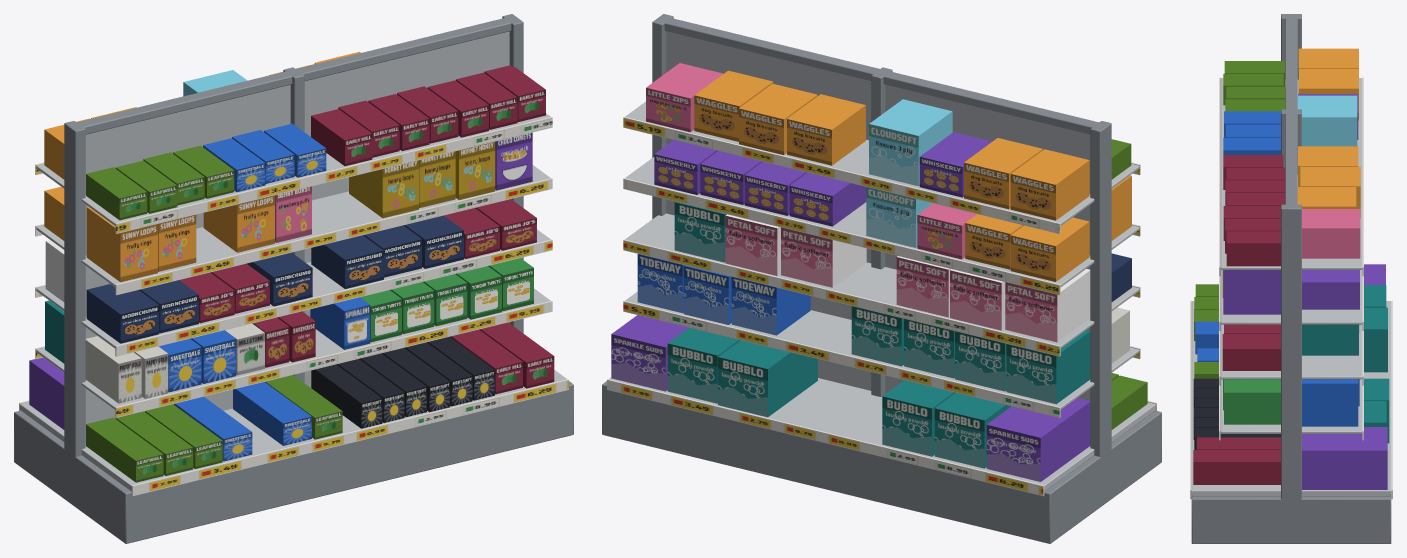
Rendered from gondola_d.glb.
3 views of the same model, side by side, from view 1: azimuth 30°, elevation 25°; view 2: azimuth 150°, elevation 25°; view 3: azimuth 270°, elevation 25° (orthographic). The views are drawn at different scales.
Visible parts, largest first — view 1: gondola_d; view 2: gondola_d; view 3: gondola_d.
Boxes of the visible parts, x1,y1,x2,y2 form: gondola_d: [14, 14, 573, 543]; gondola_d: [602, 14, 1161, 543]; gondola_d: [1190, 14, 1392, 543].
Size of the model in its own units: 11.1 by 8.9 by 4.88.
6 materials, 2 textured.
